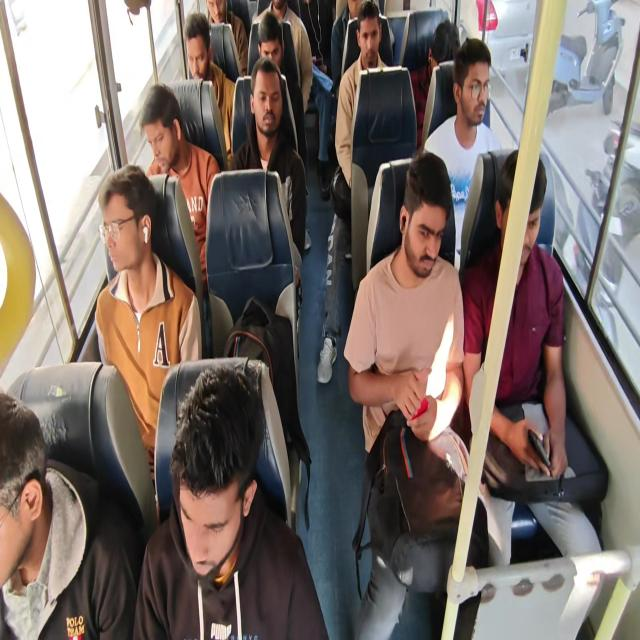person: (138, 292, 250, 582), (0, 409, 65, 640), (471, 157, 568, 295), (96, 172, 151, 268), (396, 194, 444, 288), (430, 19, 481, 91), (303, 0, 339, 93), (457, 49, 494, 134), (144, 80, 174, 145), (242, 71, 276, 126), (251, 21, 284, 77), (360, 7, 383, 64), (338, 0, 366, 31), (206, 0, 235, 29), (264, 0, 290, 28), (190, 12, 208, 44)
